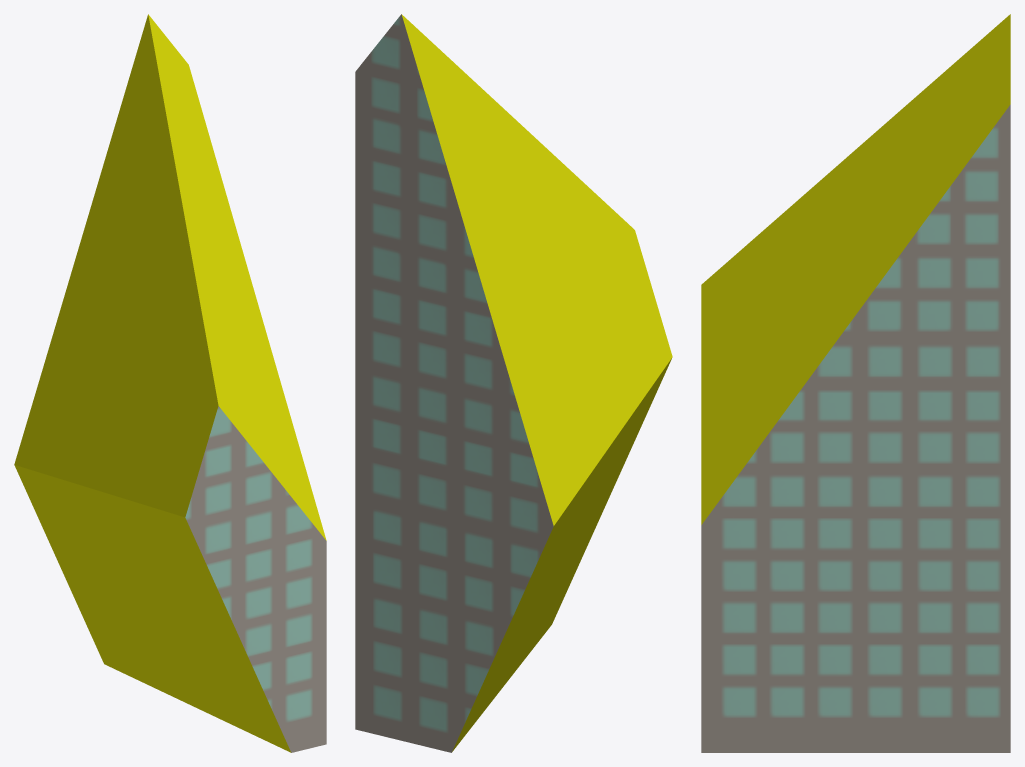
Rendered from c2Shard5.fbx.
The picture shows the model from 3 angles, left to right: view 1: azimuth 30°, elevation 25°; view 2: azimuth 150°, elevation 25°; view 3: azimuth 270°, elevation 25°; orthographic projection. The views are drawn at different scales.
Visible parts, largest first — view 1: shard73; view 2: shard73; view 3: shard73.
Boxes of the visible parts, <box> form: shard73: <box>14,14,326,752</box>; shard73: <box>355,14,672,752</box>; shard73: <box>701,14,1010,752</box>.
Size of the model in its own units: 0.067 by 0.2346 by 0.0917.
2 materials, 1 textured.
